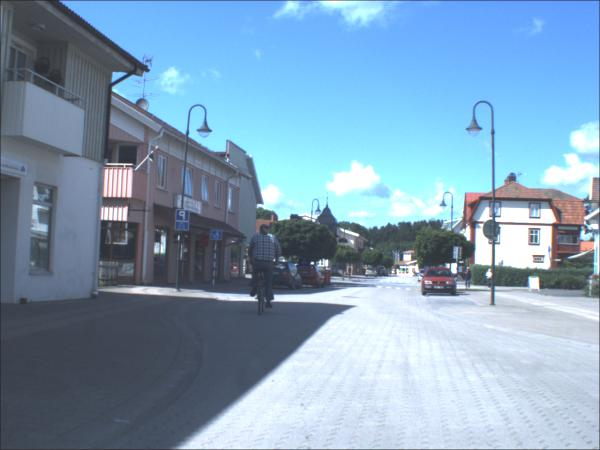PEDESTRIAN_CROSSING: (299, 260, 310, 268)
